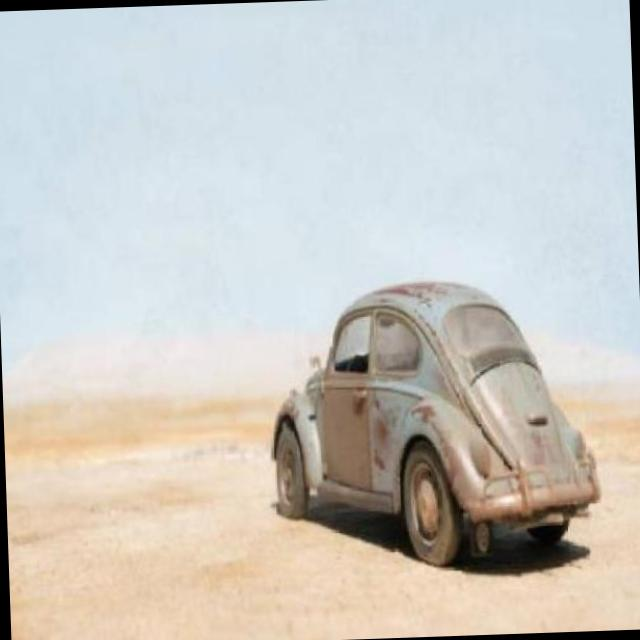car: (260, 280, 605, 577)
